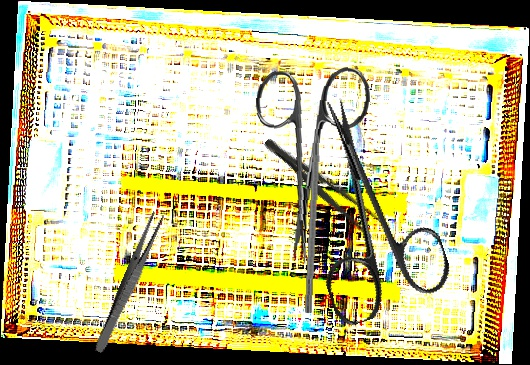Dressing Forceps: (258, 131, 394, 246), (92, 210, 167, 356)
Hook Surgical: (304, 105, 325, 314)
Iris Scissors: (272, 81, 458, 330), (245, 61, 372, 268)
